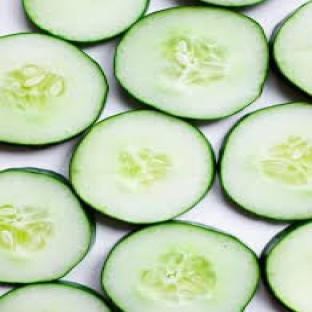Cucumber: (116, 7, 268, 119), (71, 111, 214, 223), (103, 223, 259, 311), (0, 34, 107, 145), (221, 103, 311, 220), (0, 169, 92, 282), (263, 222, 311, 311), (272, 2, 311, 95), (0, 282, 110, 311)
